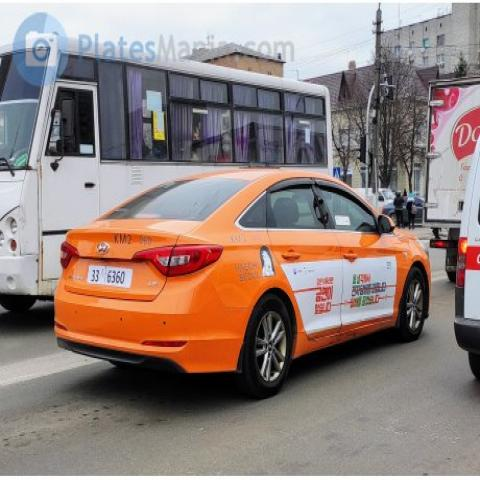LP: (80, 257, 136, 295)
